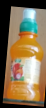orange: (6, 8, 43, 101)
